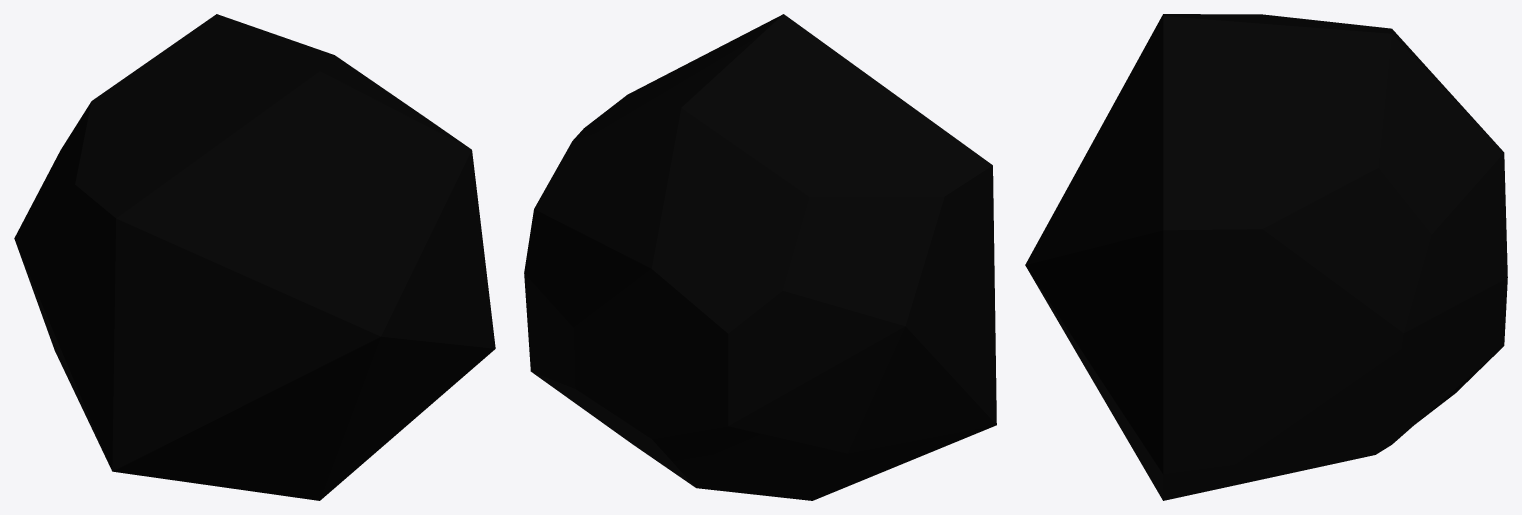
File: eyes.fbx
The picture shows the model from 3 angles, left to right: view 1: azimuth 30°, elevation 25°; view 2: azimuth 150°, elevation 25°; view 3: azimuth 270°, elevation 25°; orthographic projection. The views are drawn at different scales.
Parts seen in each view (by area): view 1: Sphere007; view 2: Sphere007; view 3: Sphere007.
Part boxes in pixels (left/top/right/bottom): Sphere007: left=14, top=14, right=495, bottom=500; Sphere007: left=524, top=14, right=996, bottom=500; Sphere007: left=1025, top=14, right=1507, bottom=500.
Bounding box in the file's own units: 6.34 × 6.72 × 6.06.
